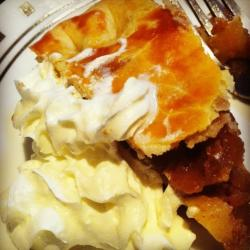apple_pie: (45, 4, 250, 211)
chantilly: (6, 79, 159, 162)
icecream: (5, 157, 188, 250)
